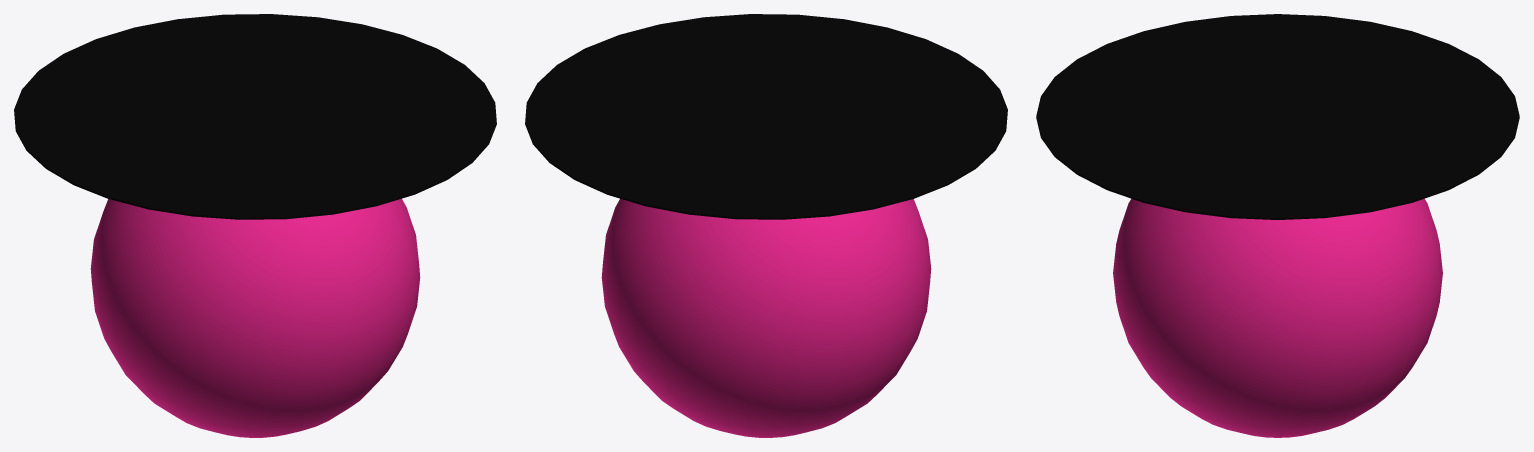
The model's file is worm.glb.
3 views of the same model, side by side, from view 1: azimuth 30°, elevation 25°; view 2: azimuth 150°, elevation 25°; view 3: azimuth 270°, elevation 25° (orthographic).
Parts seen in each view (by area): view 1: hole, Sphere; view 2: hole, Sphere; view 3: hole, Sphere.
Boxes of the visible parts, <box> form: hole: <box>14,14,496,219</box>; Sphere: <box>90,198,420,437</box>; hole: <box>525,14,1007,219</box>; Sphere: <box>601,198,931,437</box>; hole: <box>1036,14,1519,219</box>; Sphere: <box>1113,198,1442,437</box>.
Size of the model in its own units: 0.24 by 0.1679 by 0.24.
